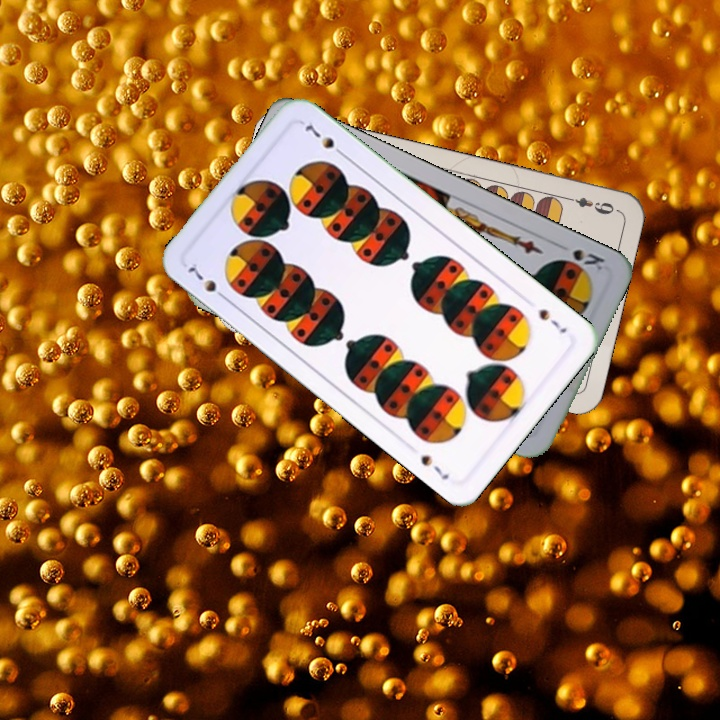E9: (561, 192, 620, 217)
S7: (181, 259, 231, 304), (535, 304, 570, 336)
SK: (568, 245, 608, 276)
